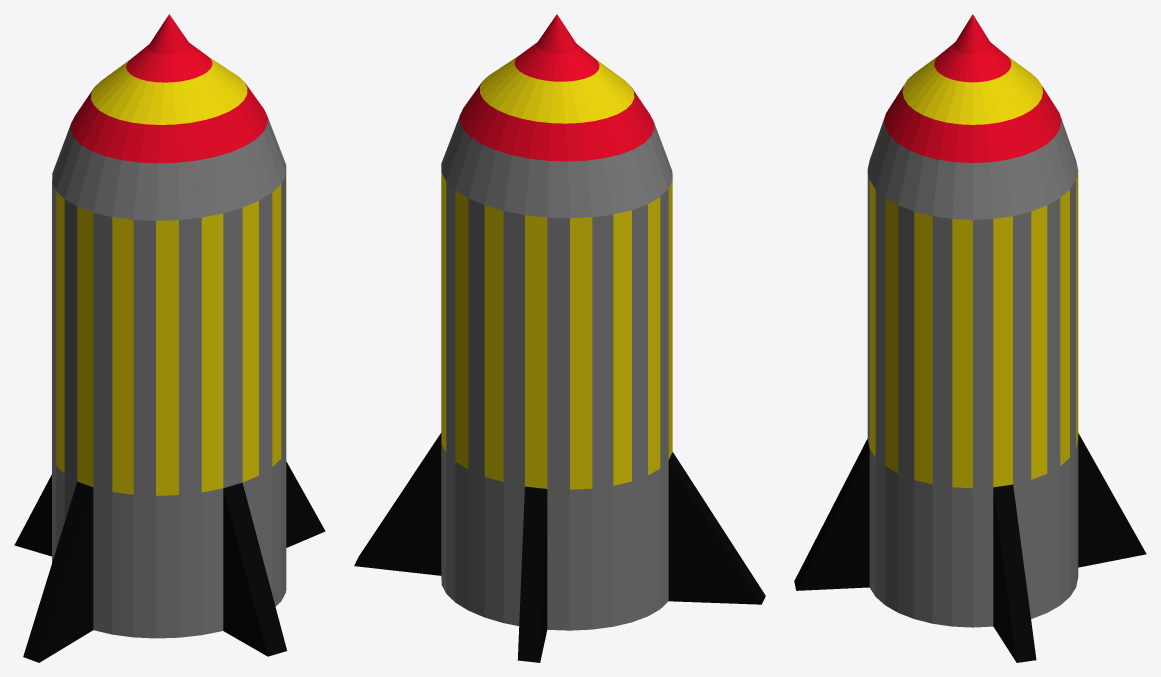
File: Rocket_prjectile.fbx
3 renders of one model, left to right at view 1: azimuth 30°, elevation 25°; view 2: azimuth 150°, elevation 25°; view 3: azimuth 270°, elevation 25°, orthographic. The views are drawn at different scales.
Visible parts, largest first — view 1: Projectile; view 2: Projectile; view 3: Projectile.
Boxes of the visible parts, <box> form: Projectile: <box>14,14,325,662</box>; Projectile: <box>354,14,765,662</box>; Projectile: <box>794,14,1146,662</box>.
Size of the model in its own units: 0.5086 by 0.7893 by 0.4473.
